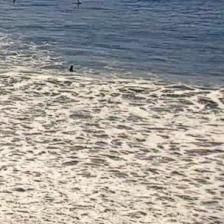surfer: (68, 65, 74, 72), (76, 0, 82, 6), (11, 0, 17, 3), (1, 0, 7, 1)
